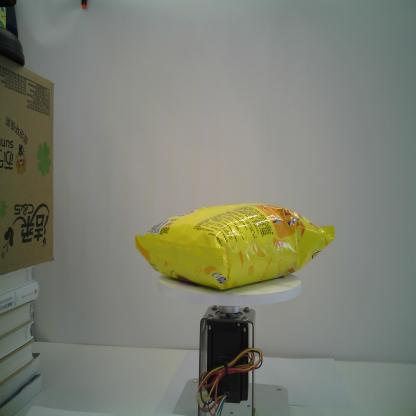Puffed Food: (134, 200, 337, 294)
